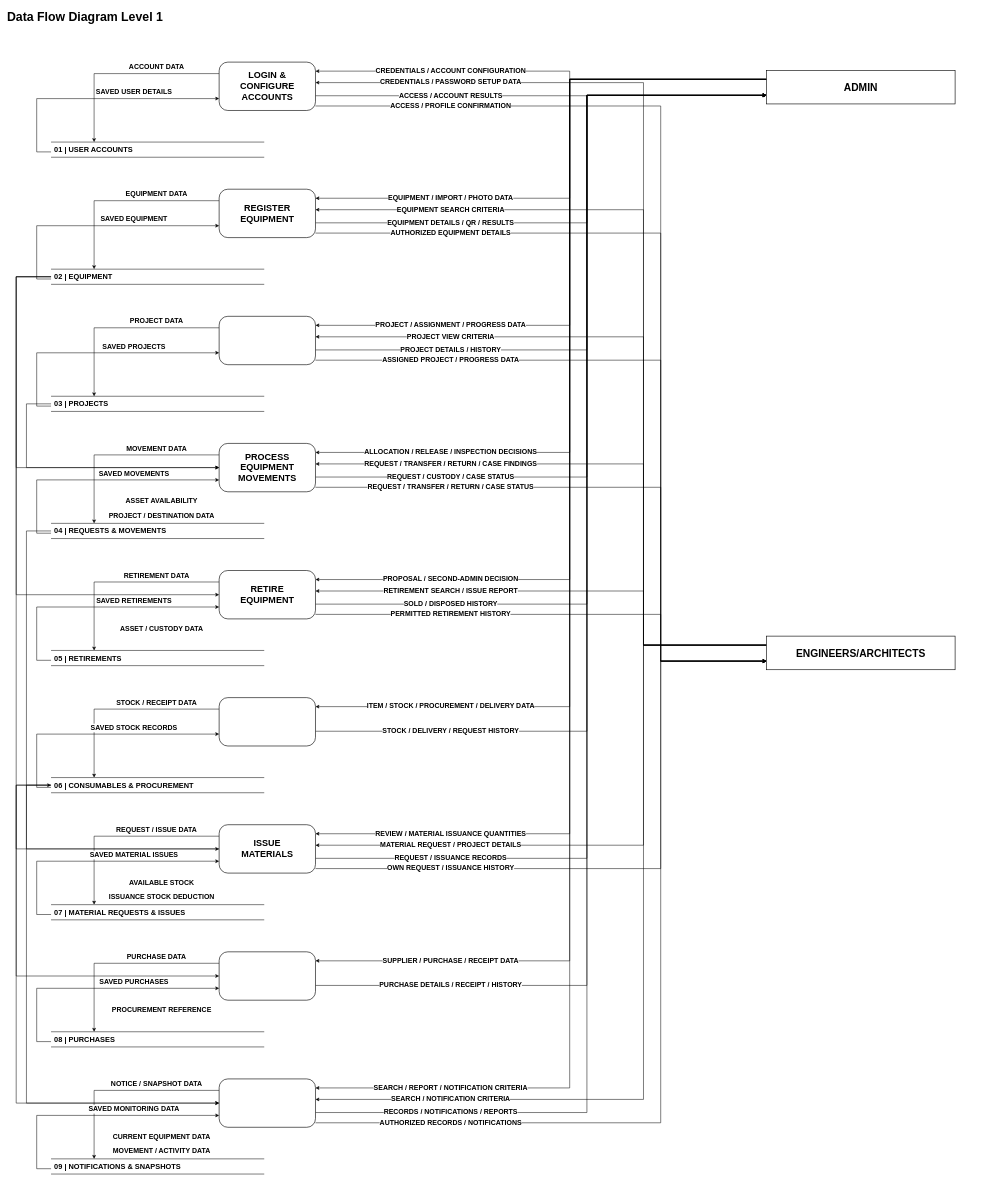
Some shapes in this 983 by 1182 pixel diagram are drawn without their labels. The shapes that lost their labels are listed below. From the top down, each one's centre as x and y in pixels, then its label:
point (267, 340): MANAGE PROJECTS
point (267, 721): MANAGE CONSUMABLES
point (267, 975): RECORD PURCHASES
point (267, 1102): SHOW REPORTS
